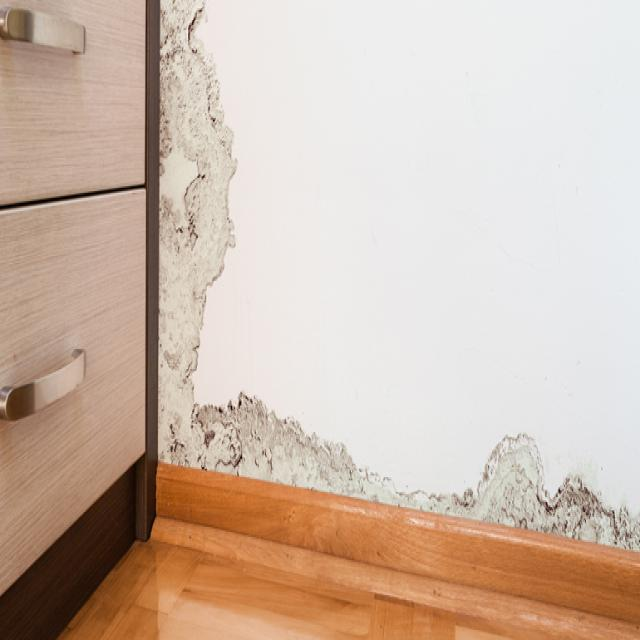Water_Leakage: (155, 0, 640, 573)
